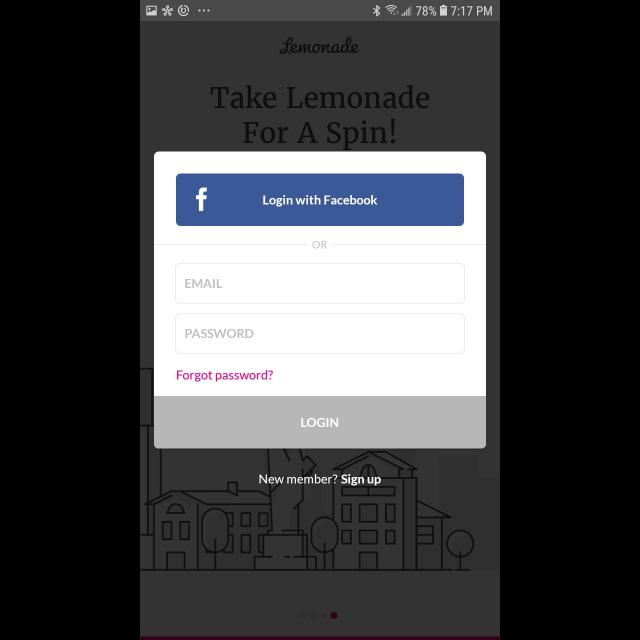icon: (196, 188, 208, 212)
input: (175, 314, 465, 354), (175, 264, 465, 304)
pageindicator: (298, 612, 338, 620)
panel: (154, 152, 486, 448)
text: (210, 86, 430, 150), (259, 474, 381, 486), (280, 37, 360, 55), (177, 370, 273, 382), (186, 329, 254, 339), (186, 279, 224, 289), (312, 242, 328, 248)
textbutton: (154, 396, 486, 448), (176, 174, 464, 226)
uppertaskbar: (140, 1, 500, 22)
